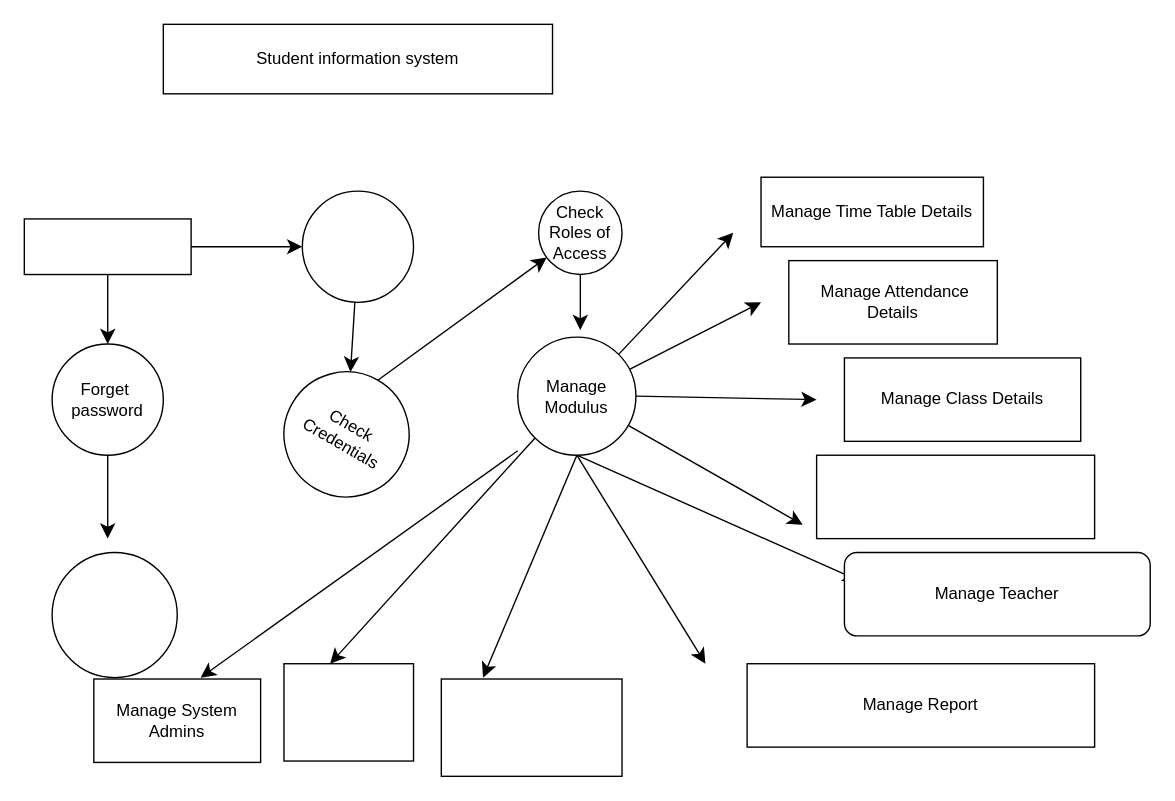
The diagram is 1175 pixels wide and 801 high, and some of its shapes have lost their labels. The centre of each missing label's shape, as x and y in pixels:
Admin: the point at 107,246
Login to System: the point at 357,246
Manage Roles of User: the point at 348,711
Manage Student Details: the point at 955,496
Send Email to user: the point at 114,614
